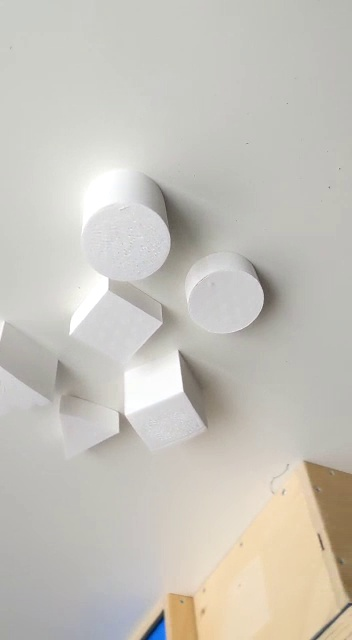Clyinder_short: (183, 251, 265, 337)
Cube: (117, 347, 210, 456)
Cube_short: (63, 270, 167, 371)
Cylinder: (77, 167, 174, 287)
Triangle: (1, 318, 59, 419)
Triangle_short: (55, 390, 121, 461)
